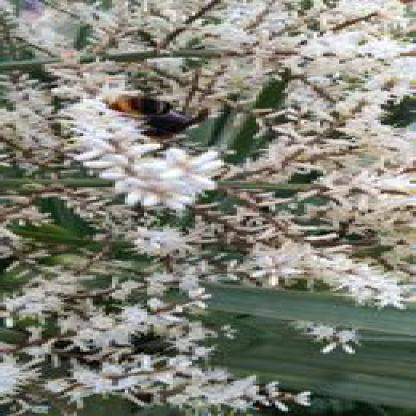Asian Hornet: (113, 82, 230, 146)
